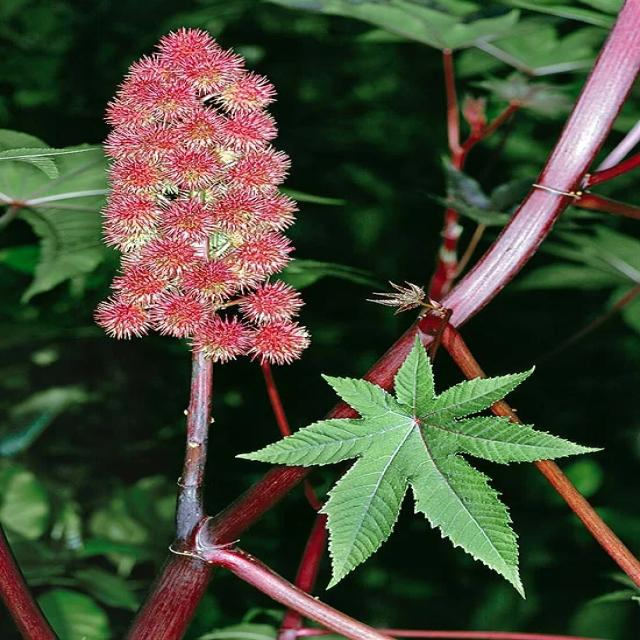Castor Oil Plant: (231, 332, 614, 601), (68, 68, 382, 381)
